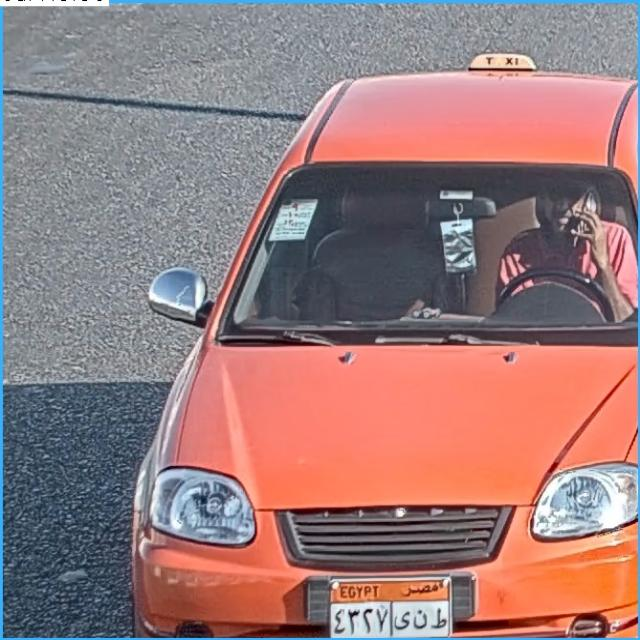windshield: (238, 171, 637, 337)
